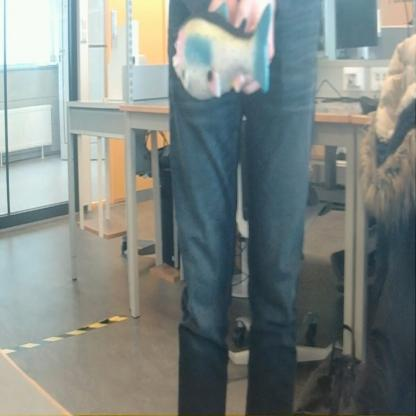rubberfish: (168, 2, 276, 106)
